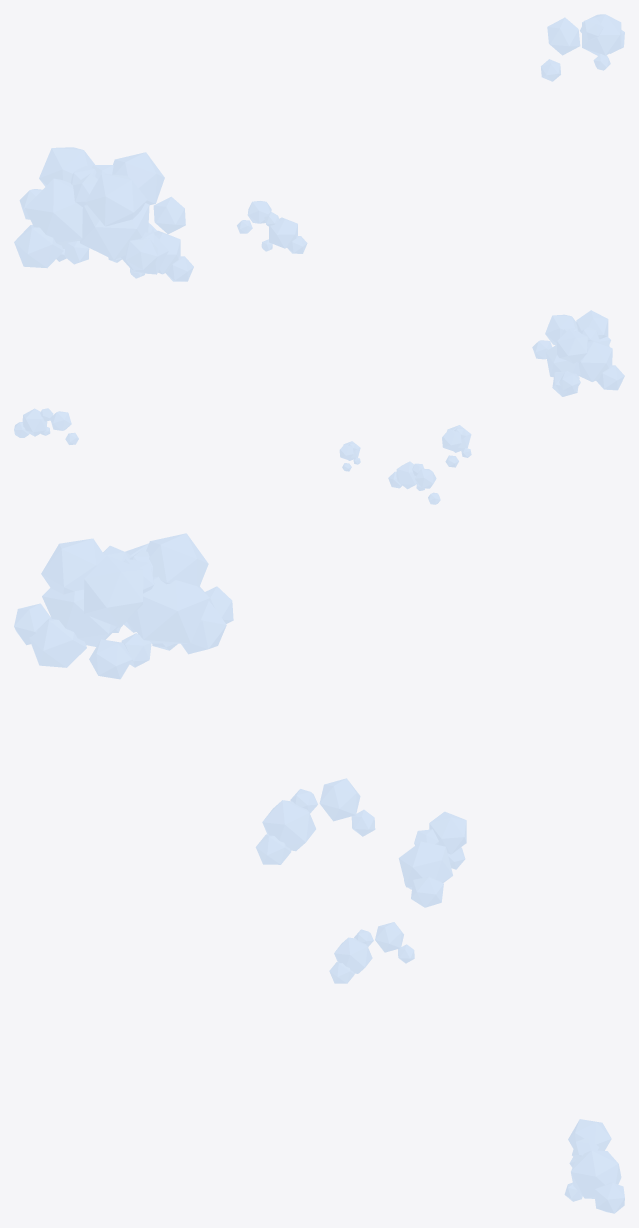
File: tree_light.gltf
3 views of the same model, one above another, from view 1: azimuth 30°, elevation 25°; view 2: azimuth 150°, elevation 25°; view 3: azimuth 270°, elevation 25° (orthographic). The views are drawn at different scales.
Visible parts, largest first — view 1: treeLight02.012, treeLight02.002, treeLight02.006, treeLight02.014, treeLight02.007, treeLight02.033; view 2: treeLight02.012, treeLight02.006, treeLight02.002, treeLight02.014, treeLight02.009, treeLight02.033, treeLight02.007; view 3: treeLight02.006, treeLight02.002, treeLight02.012, treeLight02.033, treeLight02.009, treeLight02.014, treeLight02.007.
Boxes of the visible parts, <box> form: treeLight02.012: <box>14,152,185,268</box>; treeLight02.002: <box>19,147,168,274</box>; treeLight02.006: <box>85,165,157,269</box>; treeLight02.014: <box>541,14,624,81</box>; treeLight02.007: <box>237,201,307,253</box>; treeLight02.033: <box>130,226,193,281</box>; treeLight02.012: <box>532,314,624,390</box>; treeLight02.006: <box>545,310,609,396</box>; treeLight02.002: <box>557,327,610,392</box>; treeLight02.014: <box>14,408,78,444</box>; treeLight02.009: <box>388,461,440,504</box>; treeLight02.033: <box>442,425,471,467</box>; treeLight02.007: <box>339,441,360,471</box>; treeLight02.006: <box>14,538,226,667</box>; treeLight02.002: <box>29,533,233,667</box>; treeLight02.012: <box>84,543,177,679</box>; treeLight02.033: <box>255,778,375,864</box>; treeLight02.009: <box>398,811,466,907</box>; treeLight02.014: <box>564,1119,624,1213</box>; treeLight02.007: <box>329,922,414,983</box>.
Bounding box in the file's own units: 6.06 × 1.66 × 3.38.
